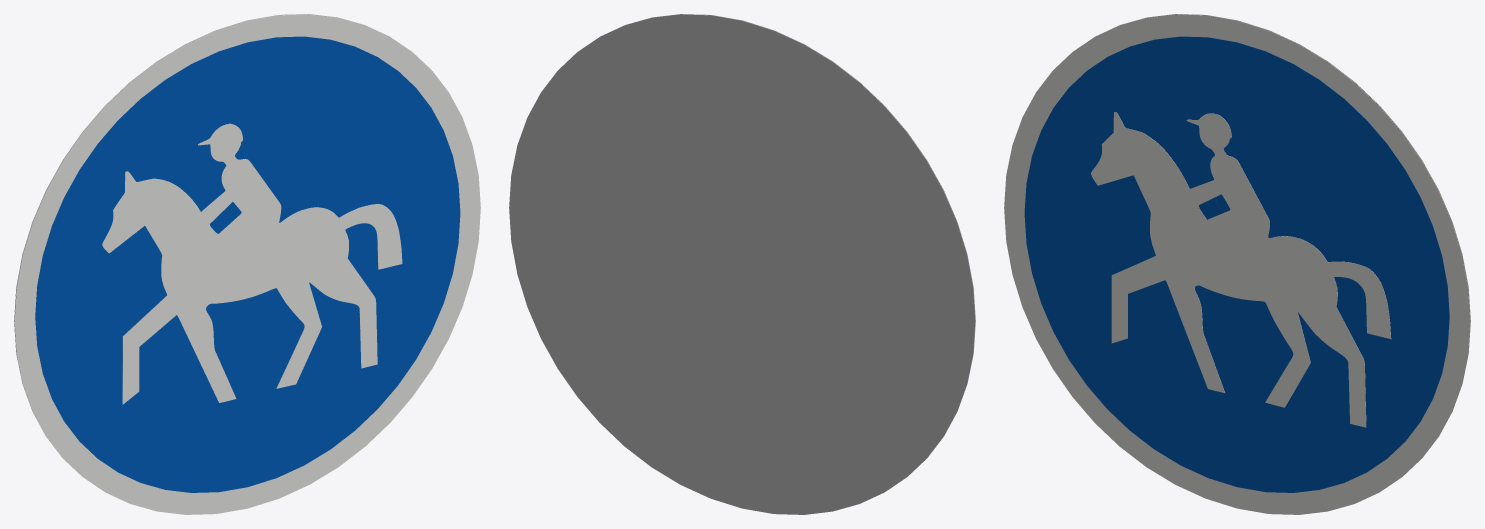
3 renders of one model, left to right at view 1: azimuth 30°, elevation 25°; view 2: azimuth 150°, elevation 25°; view 3: azimuth 330°, elevation 25°, orthographic.
Parts seen in each view (by area): view 1: B22c_p01, B22c_p03, B22c_p00, B22c_dos; view 2: B22c_dos, B22c_p00; view 3: B22c_p01, B22c_p03, B22c_p00, B22c_dos.
Boxes of the visible parts, x1,y1,x2,y2 form: B22c_p01: [35, 36, 460, 492]; B22c_p03: [102, 123, 402, 404]; B22c_p00: [14, 14, 480, 514]; B22c_dos: [14, 14, 385, 473]; B22c_dos: [509, 14, 975, 514]; B22c_p00: [604, 14, 975, 473]; B22c_p01: [1024, 36, 1449, 492]; B22c_p03: [1091, 112, 1391, 427]; B22c_p00: [1004, 14, 1470, 514]; B22c_dos: [1099, 14, 1470, 473].
Size of the model in its own units: 0.85 by 0.8498 by 0.0031.
